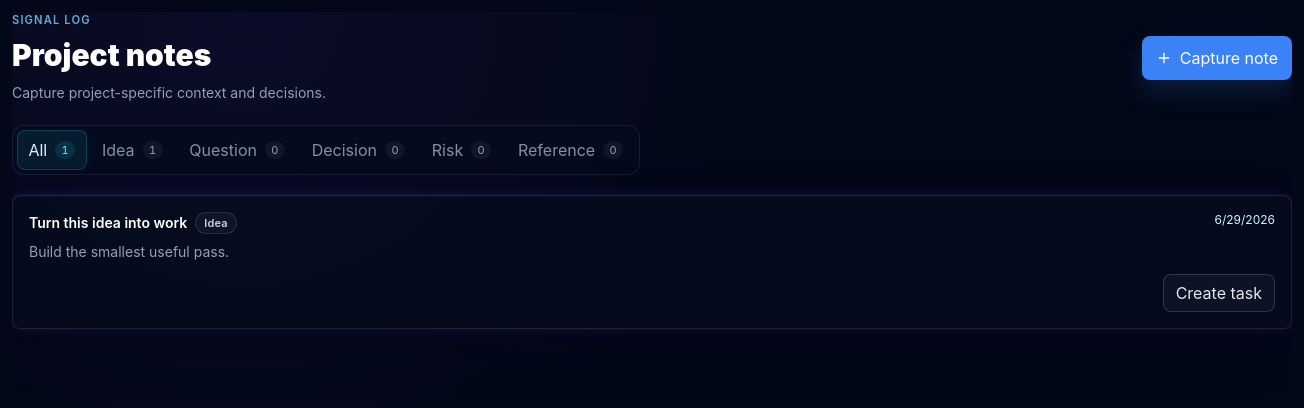
Scenario: NotesPage › creates a project task from a note
What coordinates should you click on to do the following:
click the button with aria-label "Create task from Turn this idea into work"
I would click on:
 (1219, 293)
Its box is left=1163, top=274, right=1275, bottom=312.
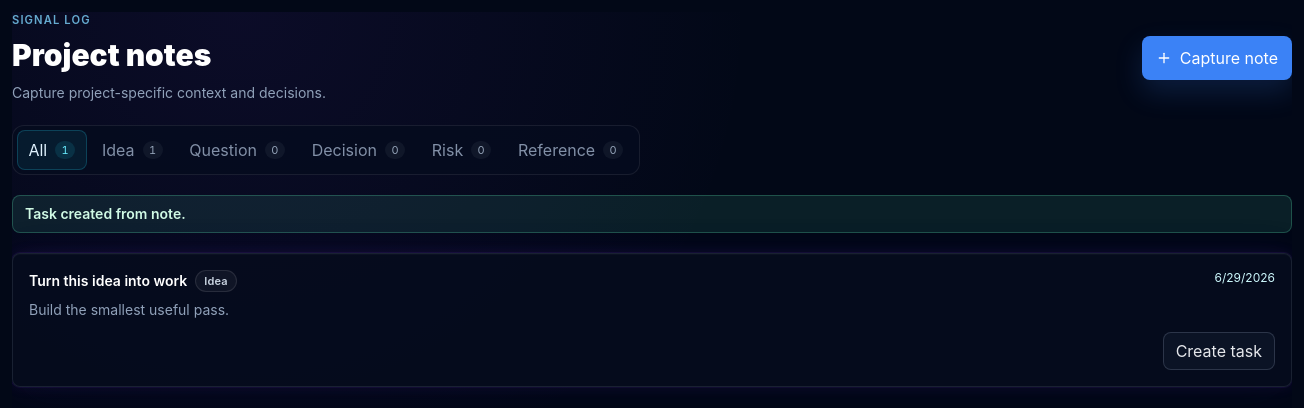
Check: the text "Task created from note." is shown, box left=12, top=195, right=1292, bottom=233
